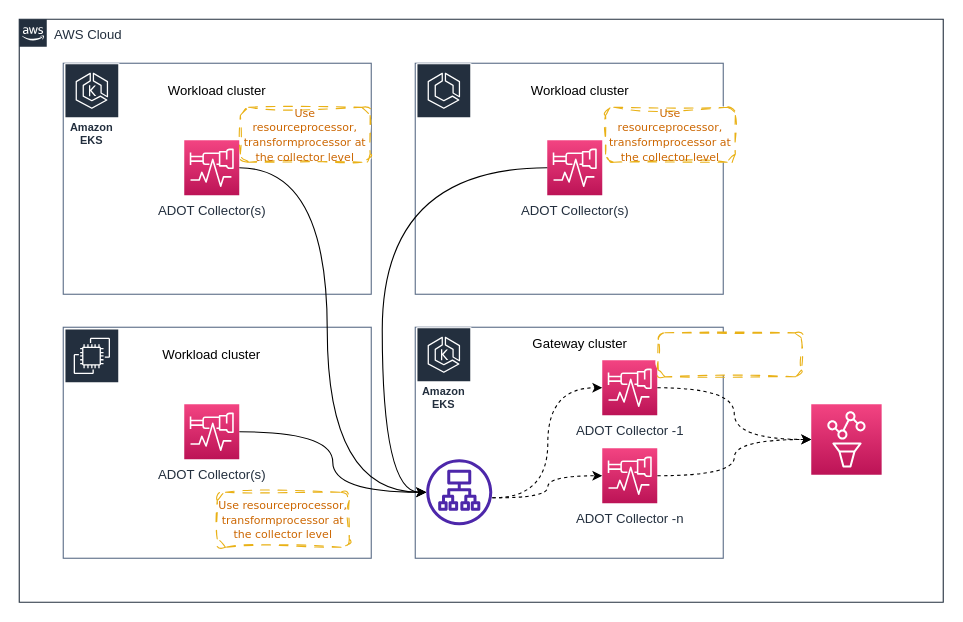
This 963x622 diagram has some shape labels left out. The shapes that lost their labels are listed below. From the top down, each one's centre as x and y in pixels, then its label:
At point (443, 106): "Amazon ECS".
At point (91, 371): "Amazon EC2".
At point (729, 354): "Centralize signal filtering through filterprocessor at the gateway level".
At point (846, 439): "Amazon Managed Service for Prometheus workspace".
